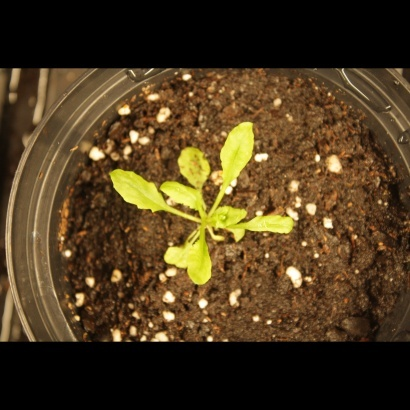leaf: (215, 113, 260, 190), (107, 167, 168, 213), (170, 142, 215, 187), (159, 180, 209, 212), (247, 211, 300, 240), (185, 242, 216, 287), (209, 201, 252, 232), (160, 242, 196, 269)
